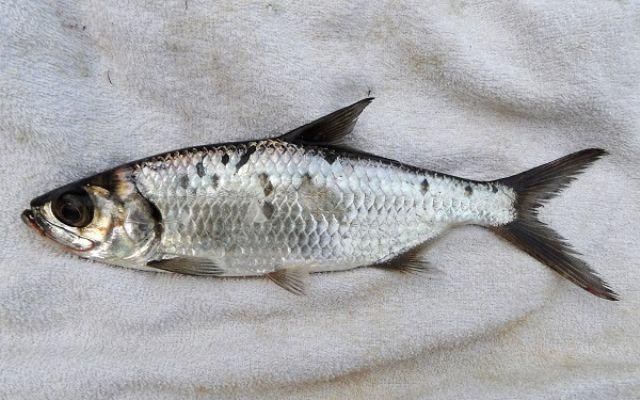Indo-Pacific Tarpon: (22, 95, 624, 303)
